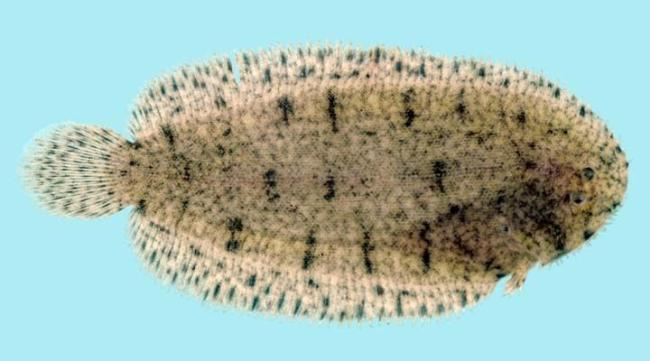fish: (19, 40, 630, 325)
